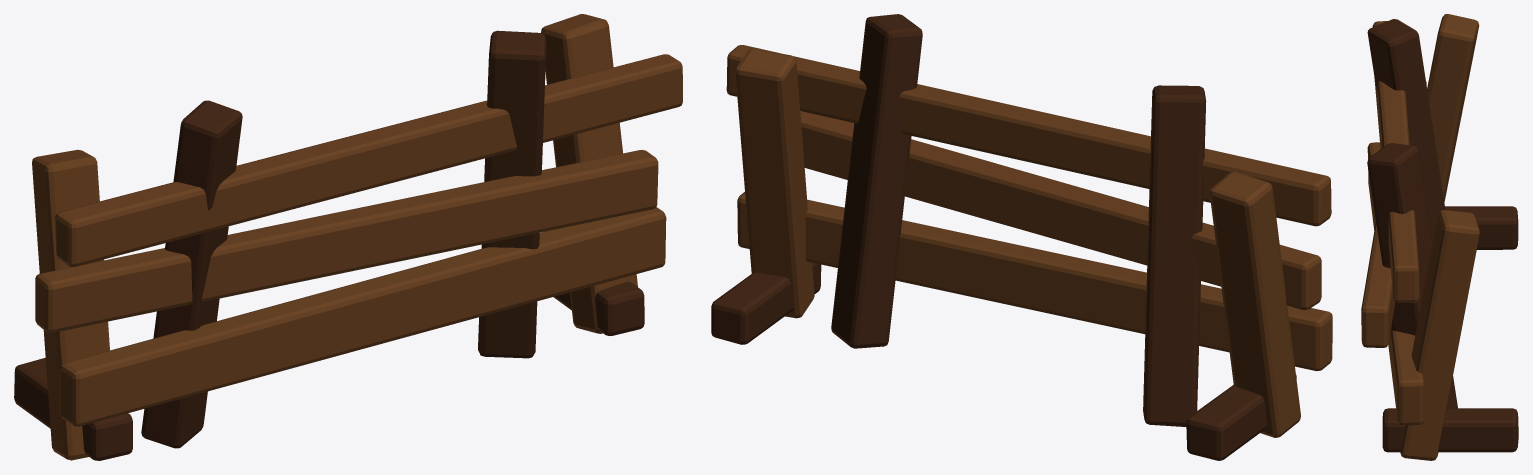
The model's file is wood_barricade_breakable_fractured.glb.
The picture shows the model from 3 angles, left to right: view 1: azimuth 30°, elevation 25°; view 2: azimuth 150°, elevation 25°; view 3: azimuth 270°, elevation 25°; orthographic projection. The views are drawn at different scales.
Visible parts, largest first — view 1: BarricadeFragment-rigid, BarricadeFragment-rigid.001, BarricadeFragment-rigid.002, BarricadeFragment-rigid.005, BarricadeFragment-rigid.006, BarricadeFragment-rigid.003, BarricadeFragment-rigid.004, BarricadeFragment-rigid.007, BarricadeFragment-rigid.008; view 2: BarricadeFragment-rigid, BarricadeFragment-rigid.002, BarricadeFragment-rigid.001, BarricadeFragment-rigid.006, BarricadeFragment-rigid.005, BarricadeFragment-rigid.003, BarricadeFragment-rigid.004, BarricadeFragment-rigid.008, BarricadeFragment-rigid.007; view 3: BarricadeFragment-rigid.004, BarricadeFragment-rigid.006, BarricadeFragment-rigid.005, BarricadeFragment-rigid.003, BarricadeFragment-rigid.002, BarricadeFragment-rigid.008, BarricadeFragment-rigid, BarricadeFragment-rigid.001, BarricadeFragment-rigid.007.
Boxes of the visible parts, x1,y1,x2,y2 form: BarricadeFragment-rigid: (60,207,666,426); BarricadeFragment-rigid.001: (35,150,658,332); BarricadeFragment-rigid.002: (55,54,682,266); BarricadeFragment-rigid.005: (141,100,242,448); BarricadeFragment-rigid.006: (478,30,546,358); BarricadeFragment-rigid.003: (32,149,109,460); BarricadeFragment-rigid.004: (541,14,637,333); BarricadeFragment-rigid.007: (14,357,132,460); BarricadeFragment-rigid.008: (553,281,644,335); BarricadeFragment-rigid: (737,192,1332,371); BarricadeFragment-rigid.002: (726,45,1331,226); BarricadeFragment-rigid.001: (800,111,1321,309); BarricadeFragment-rigid.006: (831,14,922,348); BarricadeFragment-rigid.005: (1143,85,1206,426); BarricadeFragment-rigid.003: (1209,172,1300,437); BarricadeFragment-rigid.004: (735,48,814,318); BarricadeFragment-rigid.008: (711,262,821,344); BarricadeFragment-rigid.007: (1186,375,1296,460); BarricadeFragment-rigid.004: (1400,210,1479,460); BarricadeFragment-rigid.006: (1367,143,1457,408); BarricadeFragment-rigid.005: (1367,19,1445,242); BarricadeFragment-rigid.003: (1427,14,1479,202); BarricadeFragment-rigid.002: (1372,21,1419,302); BarricadeFragment-rigid.008: (1382,408,1518,452); BarricadeFragment-rigid: (1367,142,1424,425); BarricadeFragment-rigid.001: (1361,81,1426,347); BarricadeFragment-rigid.007: (1445,206,1518,249).
Bounding box in the file's own units: 2.84 × 1.46 × 0.7572.
